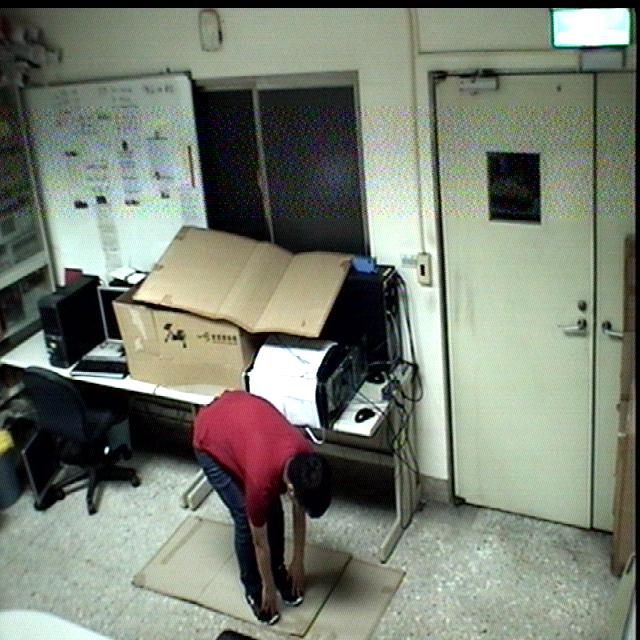bend: (188, 386, 335, 627)
